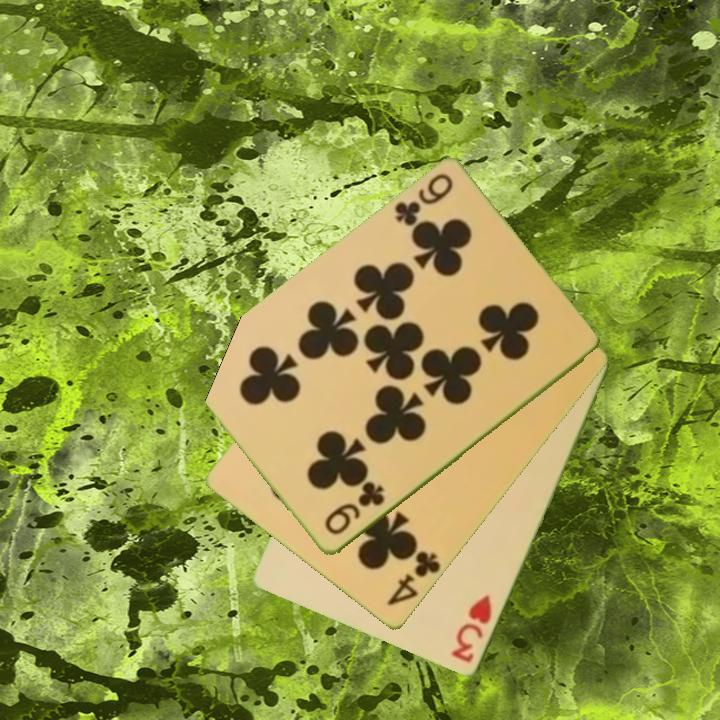3h: (448, 591, 495, 666)
4c: (383, 548, 444, 610)
9c: (390, 170, 456, 230), (321, 480, 388, 539)
